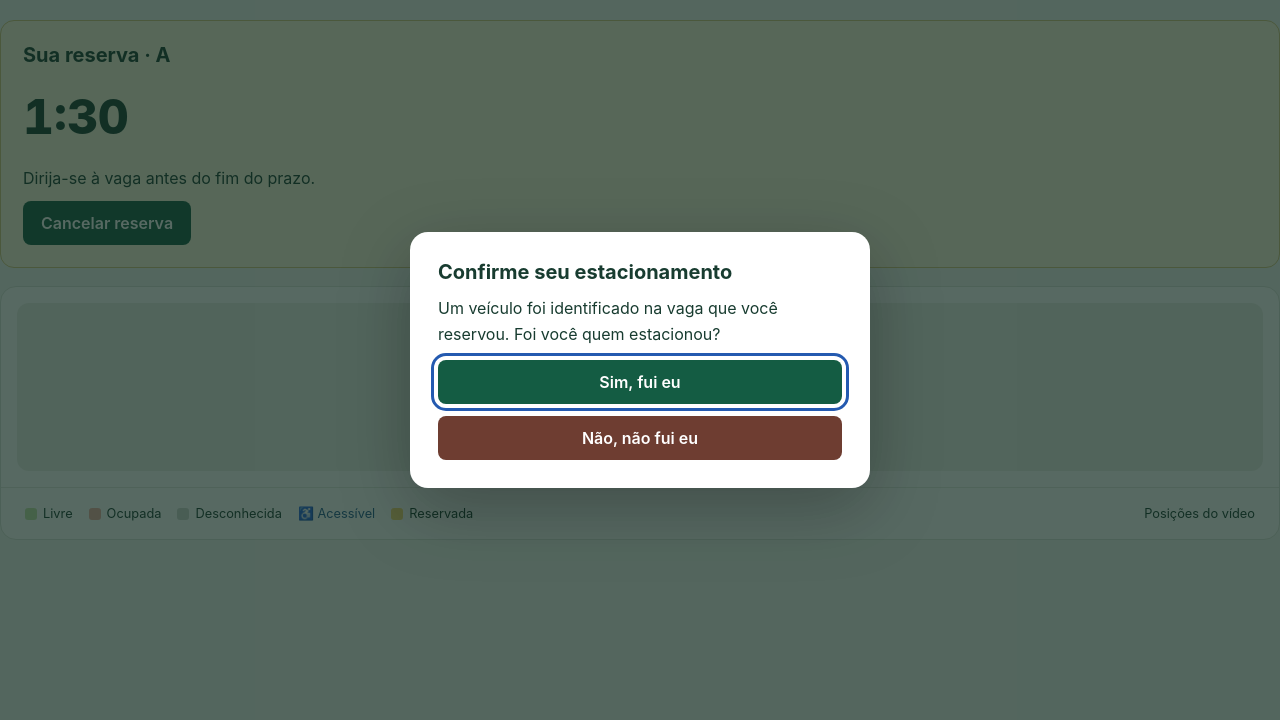
Scenario: recupera confirmação pendente e oferece alternativa somente depois da rejeição
The width and height of the screenshot is (1280, 720).
Expected: the dialog shows "Foi você quem estacionou?", [438, 298, 778, 344]
Click the button "Não, não fui eu": (640, 438) [438, 416, 842, 460]
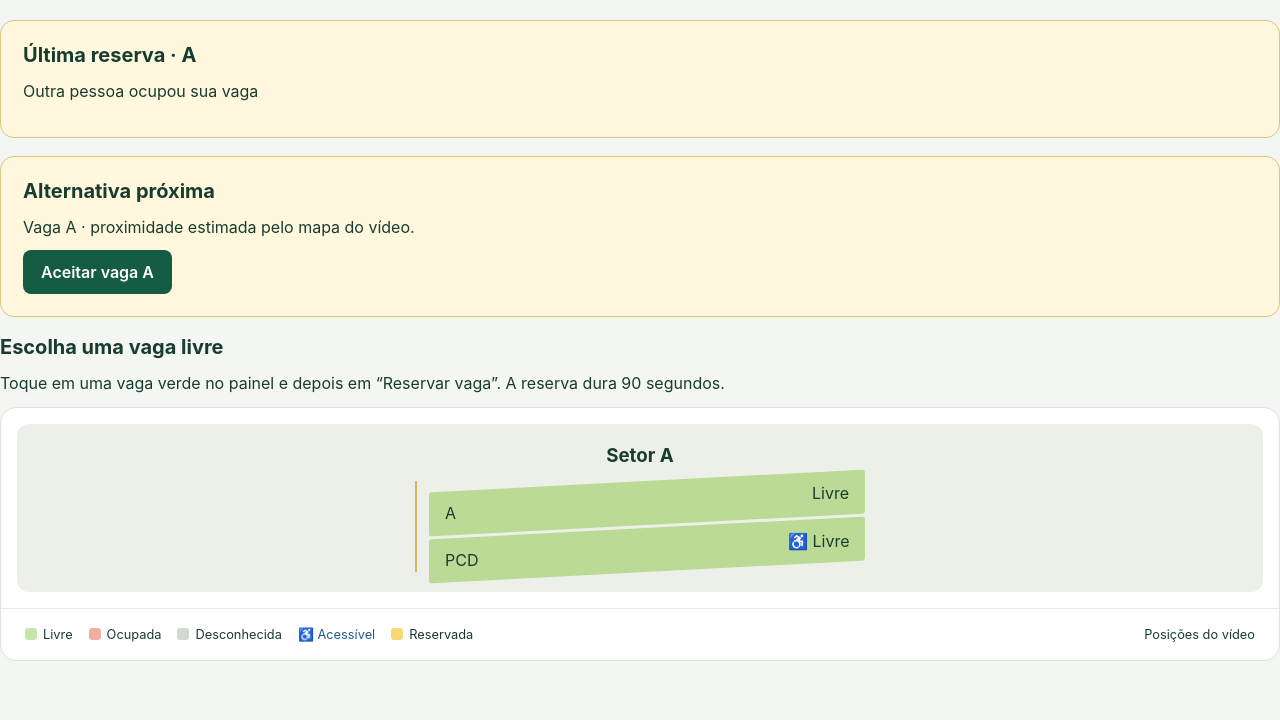
Now the button "Aceitar vaga A" is shown, box [23, 250, 172, 294]
Now the dialog is gone
